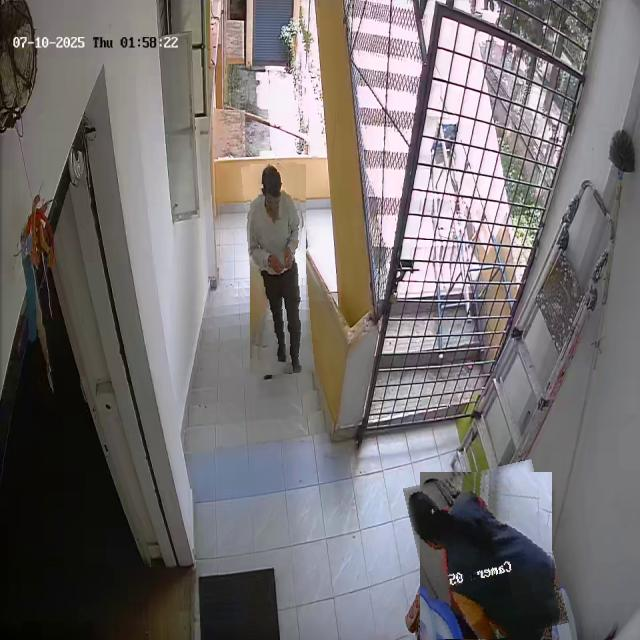person: (411, 465, 560, 640), (245, 163, 311, 375)
